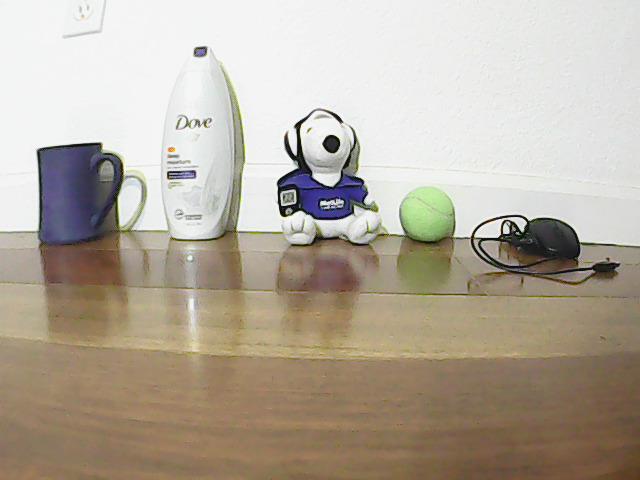ball: (398, 185, 457, 244)
mouse: (515, 207, 587, 263)
mug: (35, 143, 124, 244)
snoopy: (279, 106, 383, 247)
soap: (162, 34, 233, 238)
